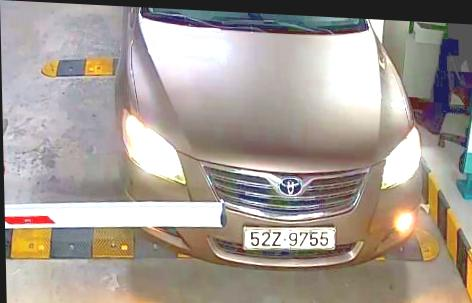License_Plate: (239, 219, 340, 257)
